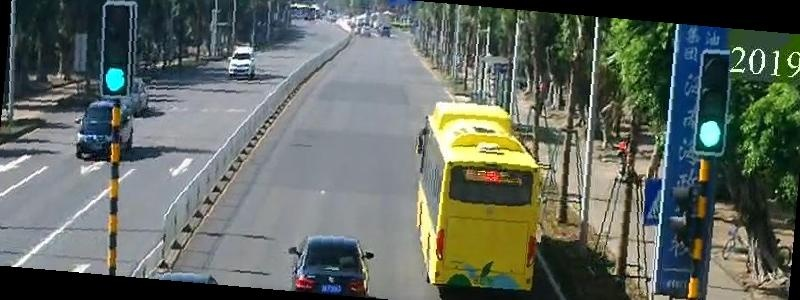green: (693, 115, 735, 155), (95, 63, 133, 97)
